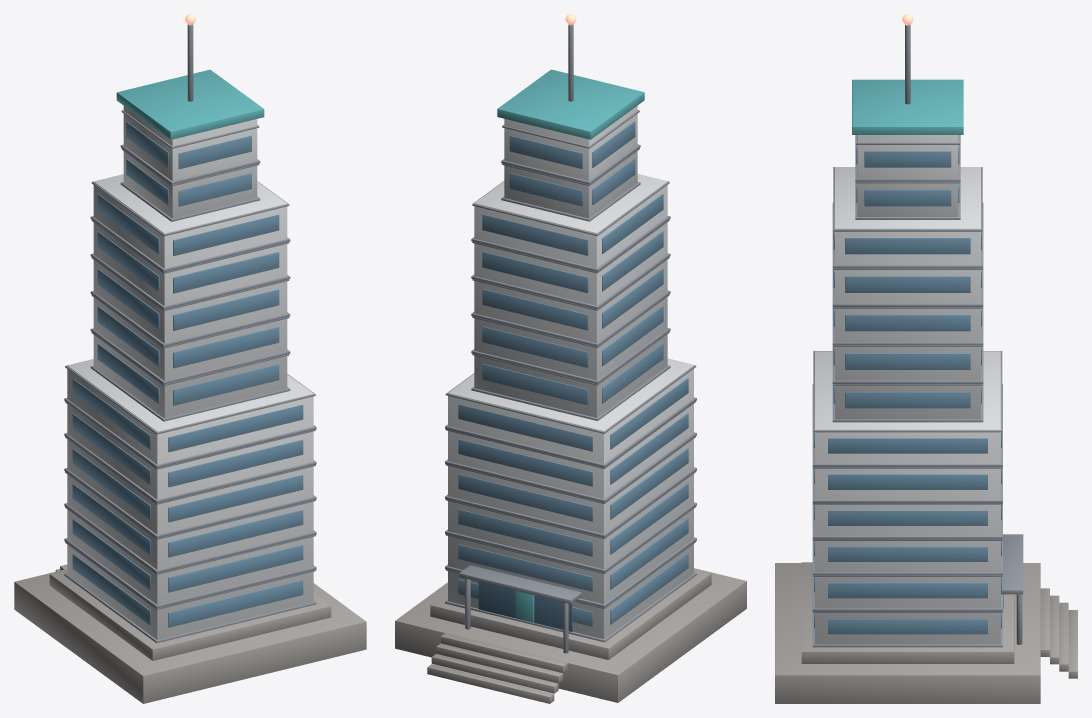
Rendered from th9_wolkenkratzer.glb.
The picture shows the model from 3 angles, left to right: view 1: azimuth 30°, elevation 25°; view 2: azimuth 150°, elevation 25°; view 3: azimuth 270°, elevation 25°; orthographic projection. The views are drawn at different scales.
Parts seen in each view (by area): view 1: Cube.002, Cube.039, Cube, Cube.070, Cube.083, Cube.001, Cube.004, Cube.010, Cube.016, Cube.022, Cube.028, Cube.034 (+35 smaller); view 2: Cube.002, Cube.039, Cube, Cube.070, Cube.083, Cube.001, Cube.015, Cube.027, Cube.033, Cube.009, Cube.021, Cube.084 (+42 smaller); view 3: Cube.002, Cube.039, Cube, Cube.083, Cube.001, Cube.070, Cube.011, Cube.005, Cube.017, Cube.023, Cube.029, Cube.035 (+28 smaller).
Boxes of the visible parts, x1=… form: Cube.002: x1=67, y1=359, x2=313, y2=639; Cube.039: x1=93, y1=174, x2=287, y2=418; Cube: x1=14, y1=569, x2=366, y2=703; Cube.070: x1=123, y1=106, x2=257, y2=218; Cube.083: x1=116, y1=69, x2=264, y2=139; Cube.001: x1=49, y1=570, x2=331, y2=660; Cube.004: x1=168, y1=580, x2=303, y2=627; Cube.010: x1=168, y1=545, x2=303, y2=592; Cube.016: x1=168, y1=510, x2=303, y2=557; Cube.022: x1=168, y1=474, x2=303, y2=522; Cube.028: x1=168, y1=439, x2=303, y2=487; Cube.034: x1=168, y1=404, x2=303, y2=452; Cube.002: x1=448, y1=359, x2=693, y2=639; Cube.039: x1=474, y1=174, x2=667, y2=417; Cube: x1=395, y1=568, x2=746, y2=702; Cube.070: x1=504, y1=106, x2=637, y2=218; Cube.083: x1=497, y1=69, x2=644, y2=139; Cube.001: x1=430, y1=569, x2=711, y2=659; Cube.015: x1=458, y1=509, x2=592, y2=556; Cube.027: x1=458, y1=439, x2=592, y2=486; Cube.033: x1=458, y1=404, x2=592, y2=451; Cube.009: x1=458, y1=544, x2=592, y2=591; Cube.021: x1=458, y1=474, x2=592, y2=521; Cube.084: x1=478, y1=582, x2=572, y2=631; Cube.002: x1=815, y1=351, x2=1000, y2=644; Cube.039: x1=835, y1=167, x2=980, y2=419; Cube: x1=775, y1=563, x2=1040, y2=703; Cube.083: x1=852, y1=79, x2=963, y2=134; Cube.001: x1=801, y1=562, x2=1014, y2=663; Cube.070: x1=857, y1=135, x2=958, y2=216; Cube.011: x1=828, y1=582, x2=987, y2=598; Cube.005: x1=828, y1=619, x2=987, y2=634; Cube.017: x1=828, y1=546, x2=987, y2=561; Cube.023: x1=828, y1=510, x2=987, y2=525; Cube.029: x1=828, y1=474, x2=987, y2=489; Cube.035: x1=828, y1=438, x2=987, y2=453.
Size of the model in its own units: 20 by 52.62 by 22.8.
